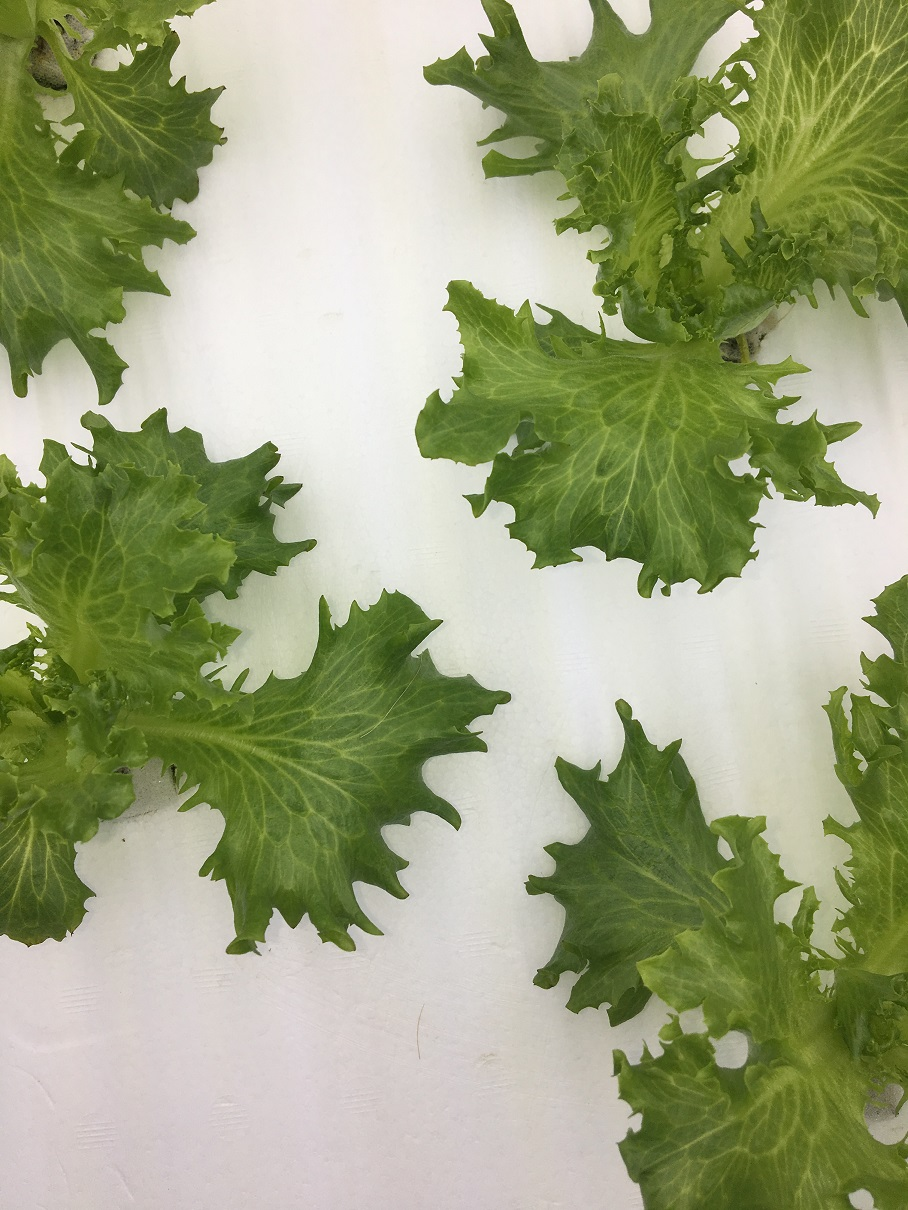tipburn: (178, 69, 194, 84), (296, 477, 311, 492), (219, 136, 234, 149), (220, 80, 232, 95), (219, 122, 230, 133), (166, 203, 174, 211)
